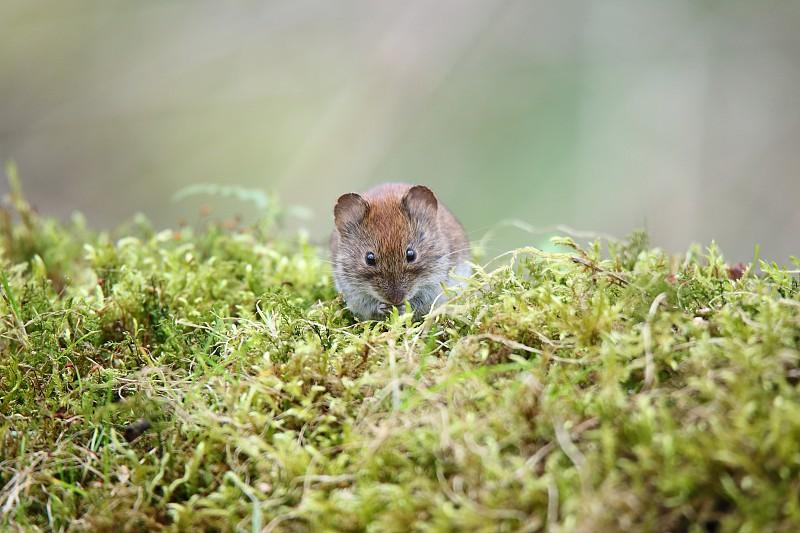rat: (319, 170, 486, 320)
